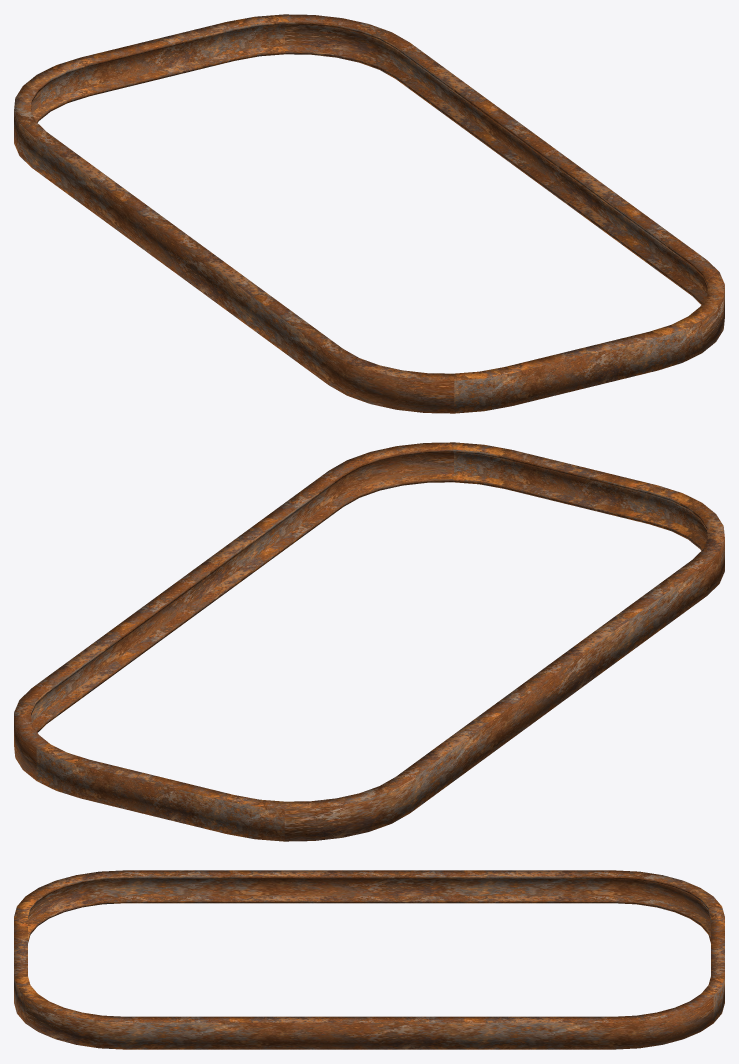
The model's file is mdl_connector.obj.
3 views of the same model, one above another, from view 1: azimuth 30°, elevation 25°; view 2: azimuth 150°, elevation 25°; view 3: azimuth 270°, elevation 25° (orthographic). The views are drawn at different scales.
Parts seen in each view (by area): view 1: Rectangle003; view 2: Rectangle003; view 3: Rectangle003.
Part boxes in pixels (<box>): Rectangle003: <box>14,14,724,413</box>; Rectangle003: <box>14,442,724,841</box>; Rectangle003: <box>14,870,724,1049</box>.
Size of the model in its own units: 2.08 by 0.1721 by 4.11.
